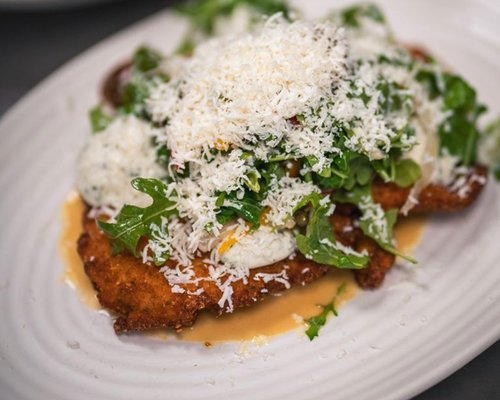sandwich: (42, 5, 477, 338)
